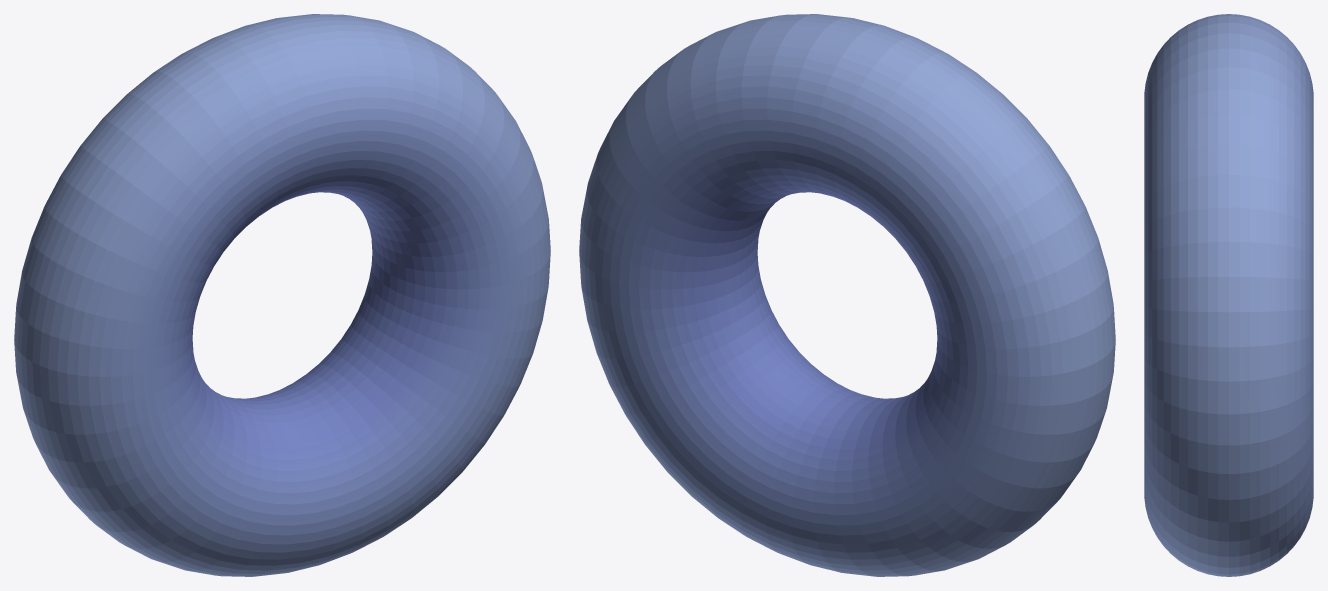
3 renders of one model, left to right at view 1: azimuth 30°, elevation 25°; view 2: azimuth 150°, elevation 25°; view 3: azimuth 270°, elevation 25°, orthographic. The views are drawn at different scales.
Parts seen in each view (by area): view 1: world; view 2: world; view 3: world.
Boxes of the visible parts, left/top/right/bottom form: world: left=14, top=14, right=550, bottom=576; world: left=579, top=14, right=1115, bottom=576; world: left=1144, top=14, right=1313, bottom=576.
Bounding box in the file's own units: 18.13 × 18.1 × 5.46.
